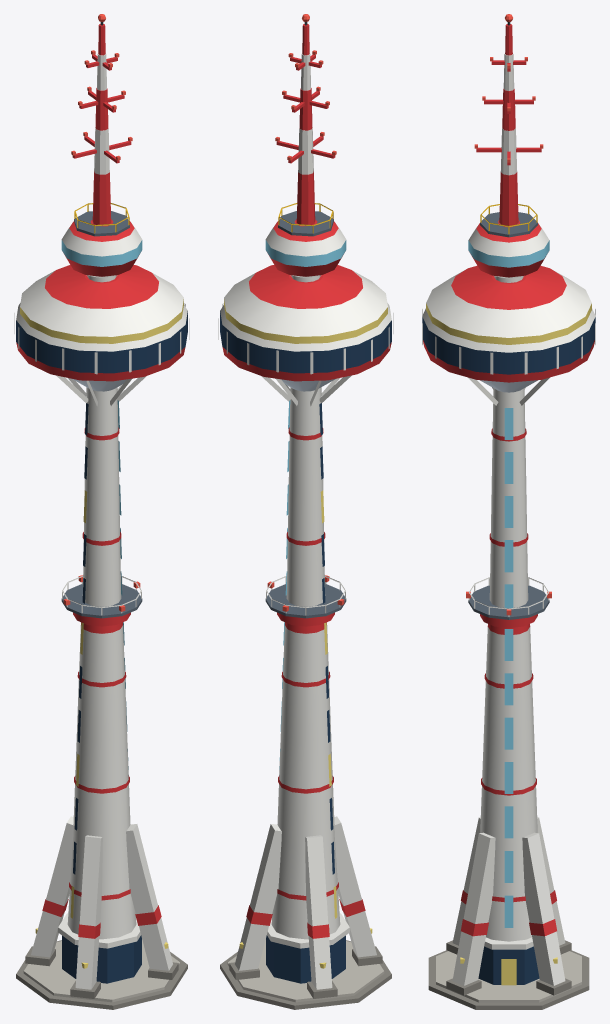
The model's file is tv_tower.glb.
3 renders of one model, left to right at view 1: azimuth 30°, elevation 25°; view 2: azimuth 150°, elevation 25°; view 3: azimuth 270°, elevation 25°, orthographic.
Visible parts, largest first — view 1: Body; view 2: Body; view 3: Body.
Part boxes in pixels (x1=…): Body: x1=14, y1=14, x2=189, y2=1009; Body: x1=218, y1=14, x2=393, y2=1009; Body: x1=422, y1=14, x2=595, y2=1009.
Size of the model in its own units: 1.8 by 11.01 by 1.8.
